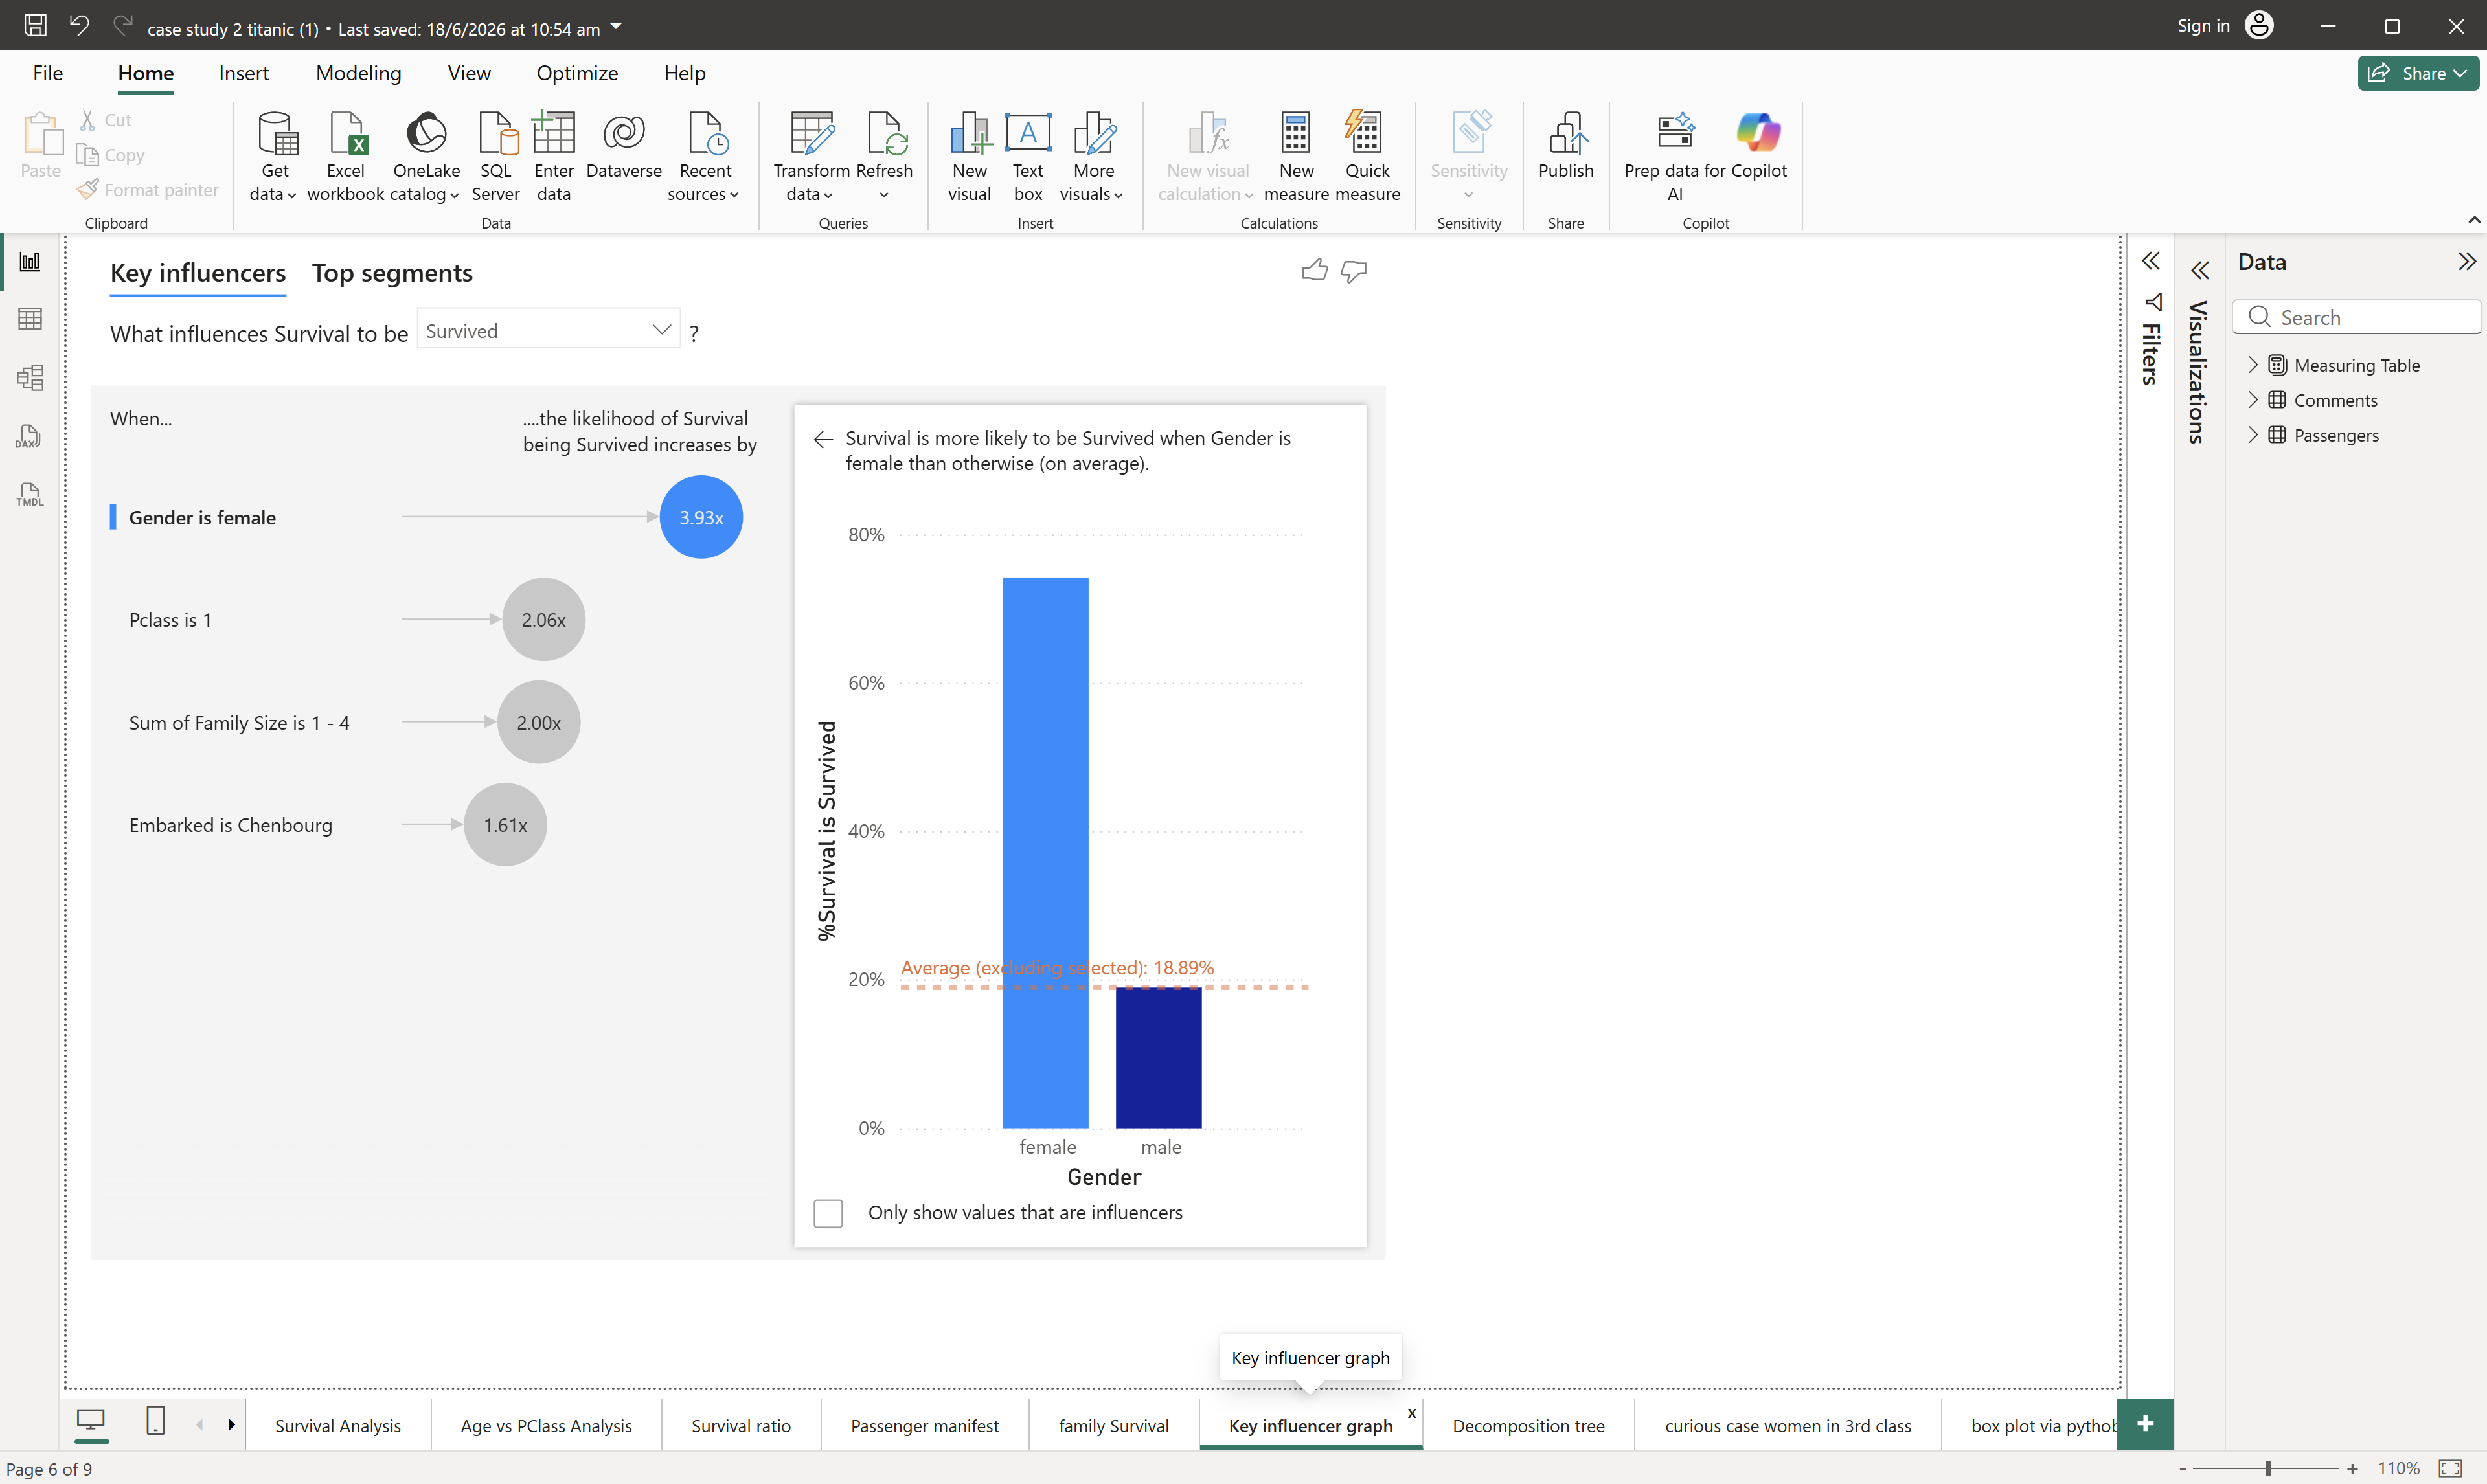

This screenshot's page, from the dashboard's own definition file:
{"tool":"powerbi","page":{"name":"Key influencer graph","canvas":[1280,720],"ordinal":5},"visuals":[{"type":"keyDriversVisual","fields":{"Target":["Passengers.Survival"],"ExplainBy":["Passengers.Gender","Passengers.Pclass","Sum(Passengers.Family Size)","Passengers.Embarked"]},"box":[10,0,817.8,645.6],"z":0}]}

Visuals, with their boxes on the page's 1280x720 design canvas (x1, y1, x2, y2). These are canvas units, not pixel positions in the 2487x1484 screenshot, which may show the page scaled, cropped or inside an application window:
keyDriversVisual - Passengers.Survival x Passengers.Gender: {"left": 10, "top": 0, "right": 828, "bottom": 646}
